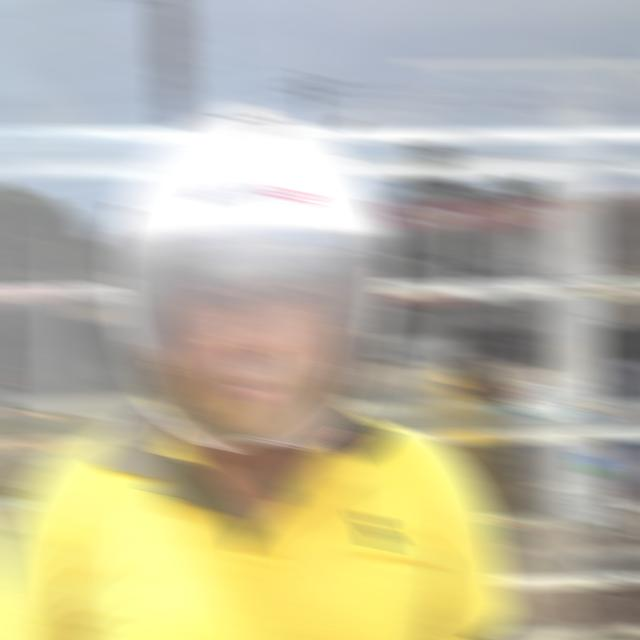With Helmet: (99, 100, 401, 454)
